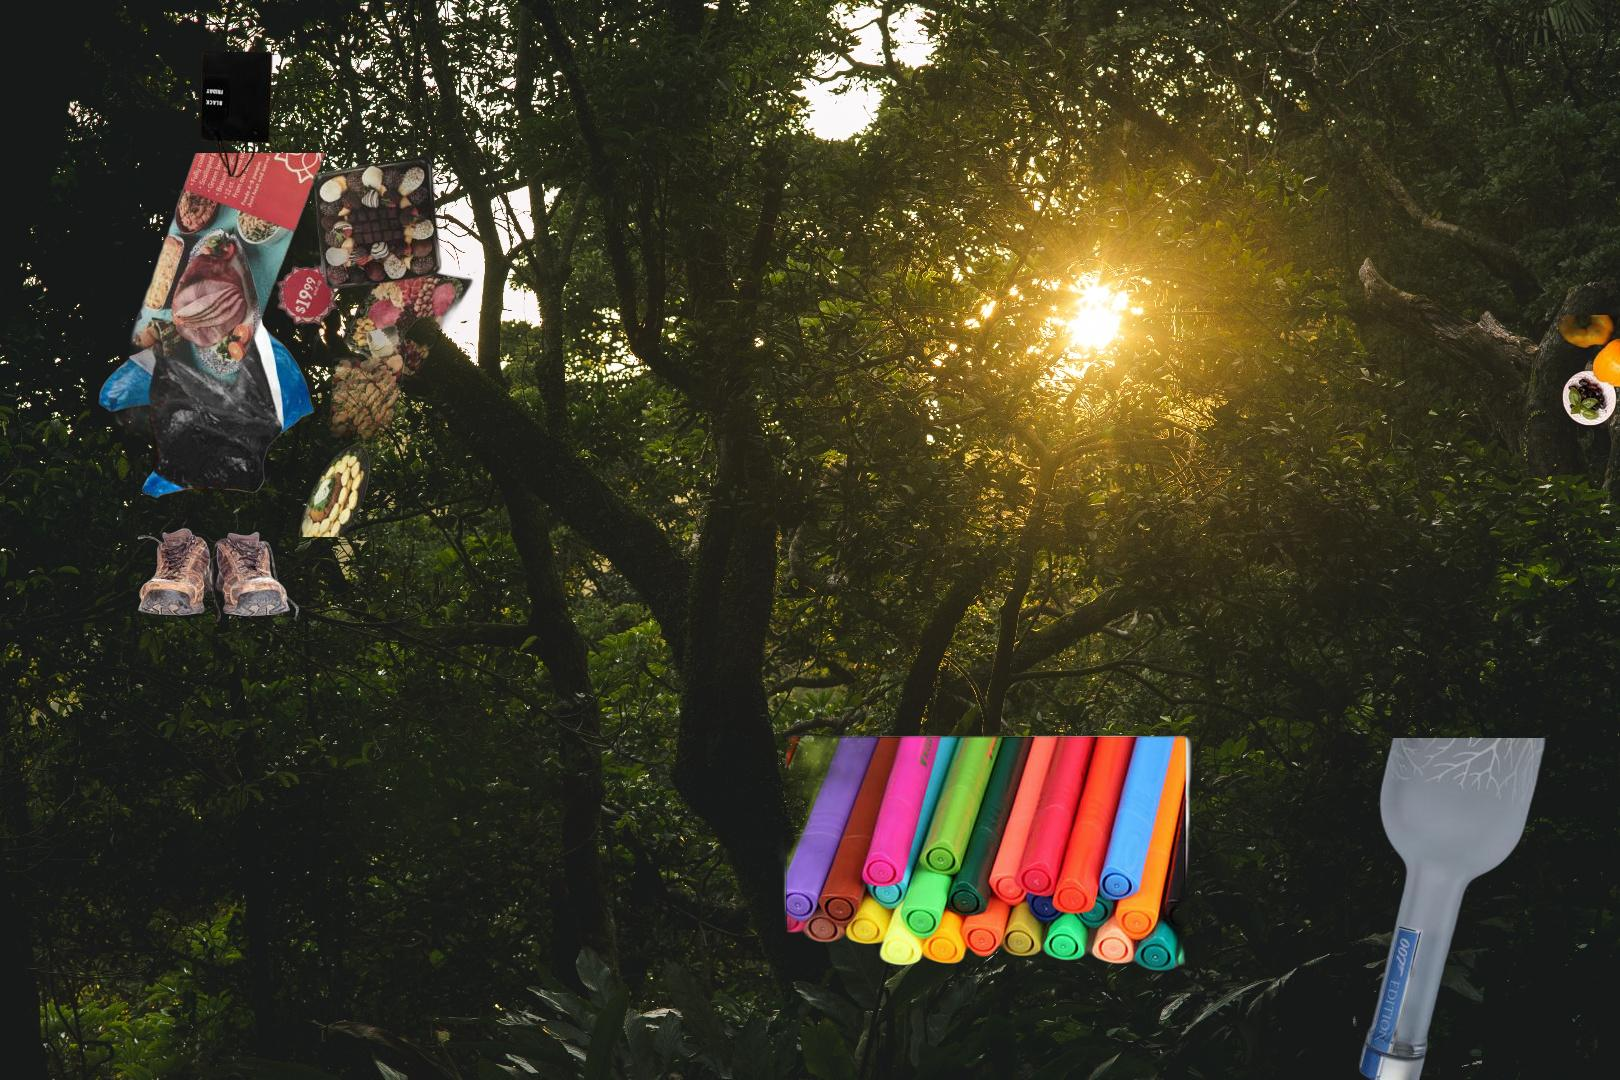biological: (1555, 315, 1620, 429)
glass: (1354, 738, 1551, 1080)
paper: (74, 153, 477, 538)
paper-bag: (198, 48, 272, 180)
penholder: (763, 715, 1197, 974)
plastic-bag: (95, 270, 317, 501)
shoes: (135, 526, 303, 634)
trash: (1618, 1047, 1620, 1080)
